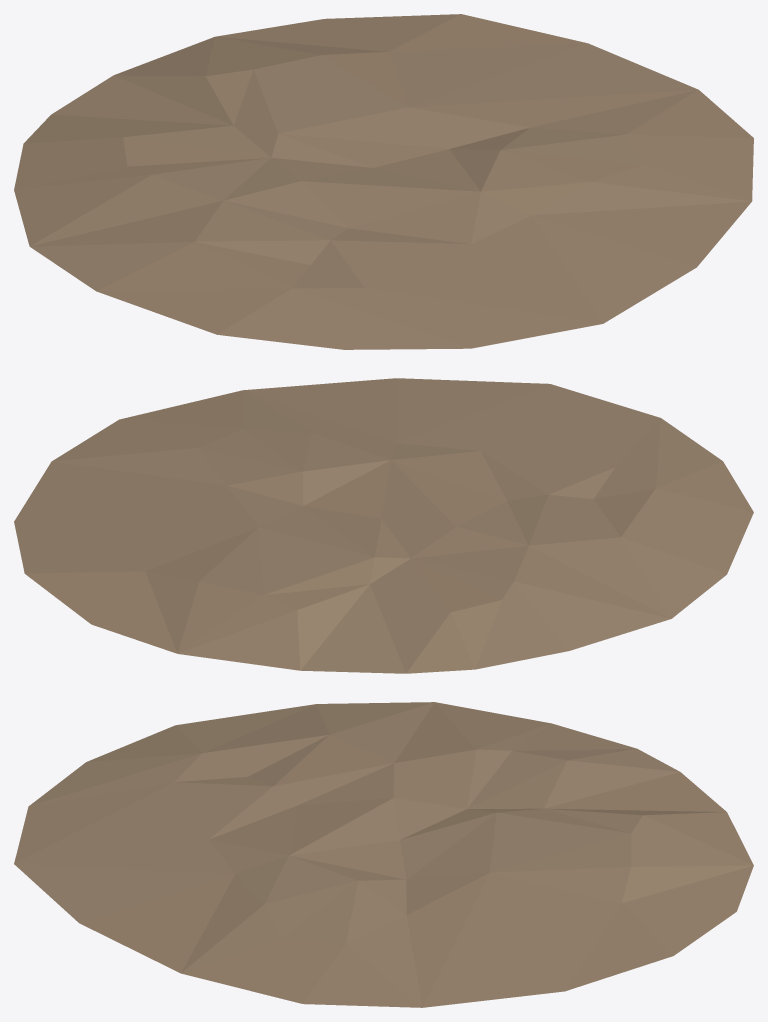
File: SM_Env_Ground_Round_01.glb
3 renders of one model, top to bottom at view 1: azimuth 30°, elevation 25°; view 2: azimuth 150°, elevation 25°; view 3: azimuth 270°, elevation 25°, orthographic. The views are drawn at different scales.
Visible parts, largest first — view 1: SM_Env_Ground_Round_01; view 2: SM_Env_Ground_Round_01; view 3: SM_Env_Ground_Round_01.
Part boxes in pixels (x1,y1,x2,y2): SM_Env_Ground_Round_01: (14,14,753,349); SM_Env_Ground_Round_01: (14,378,753,673); SM_Env_Ground_Round_01: (14,702,753,1007).
Bounding box in the file's own units: 13.05 × 0.3983 × 13.34.
1 material, 1 textured.
